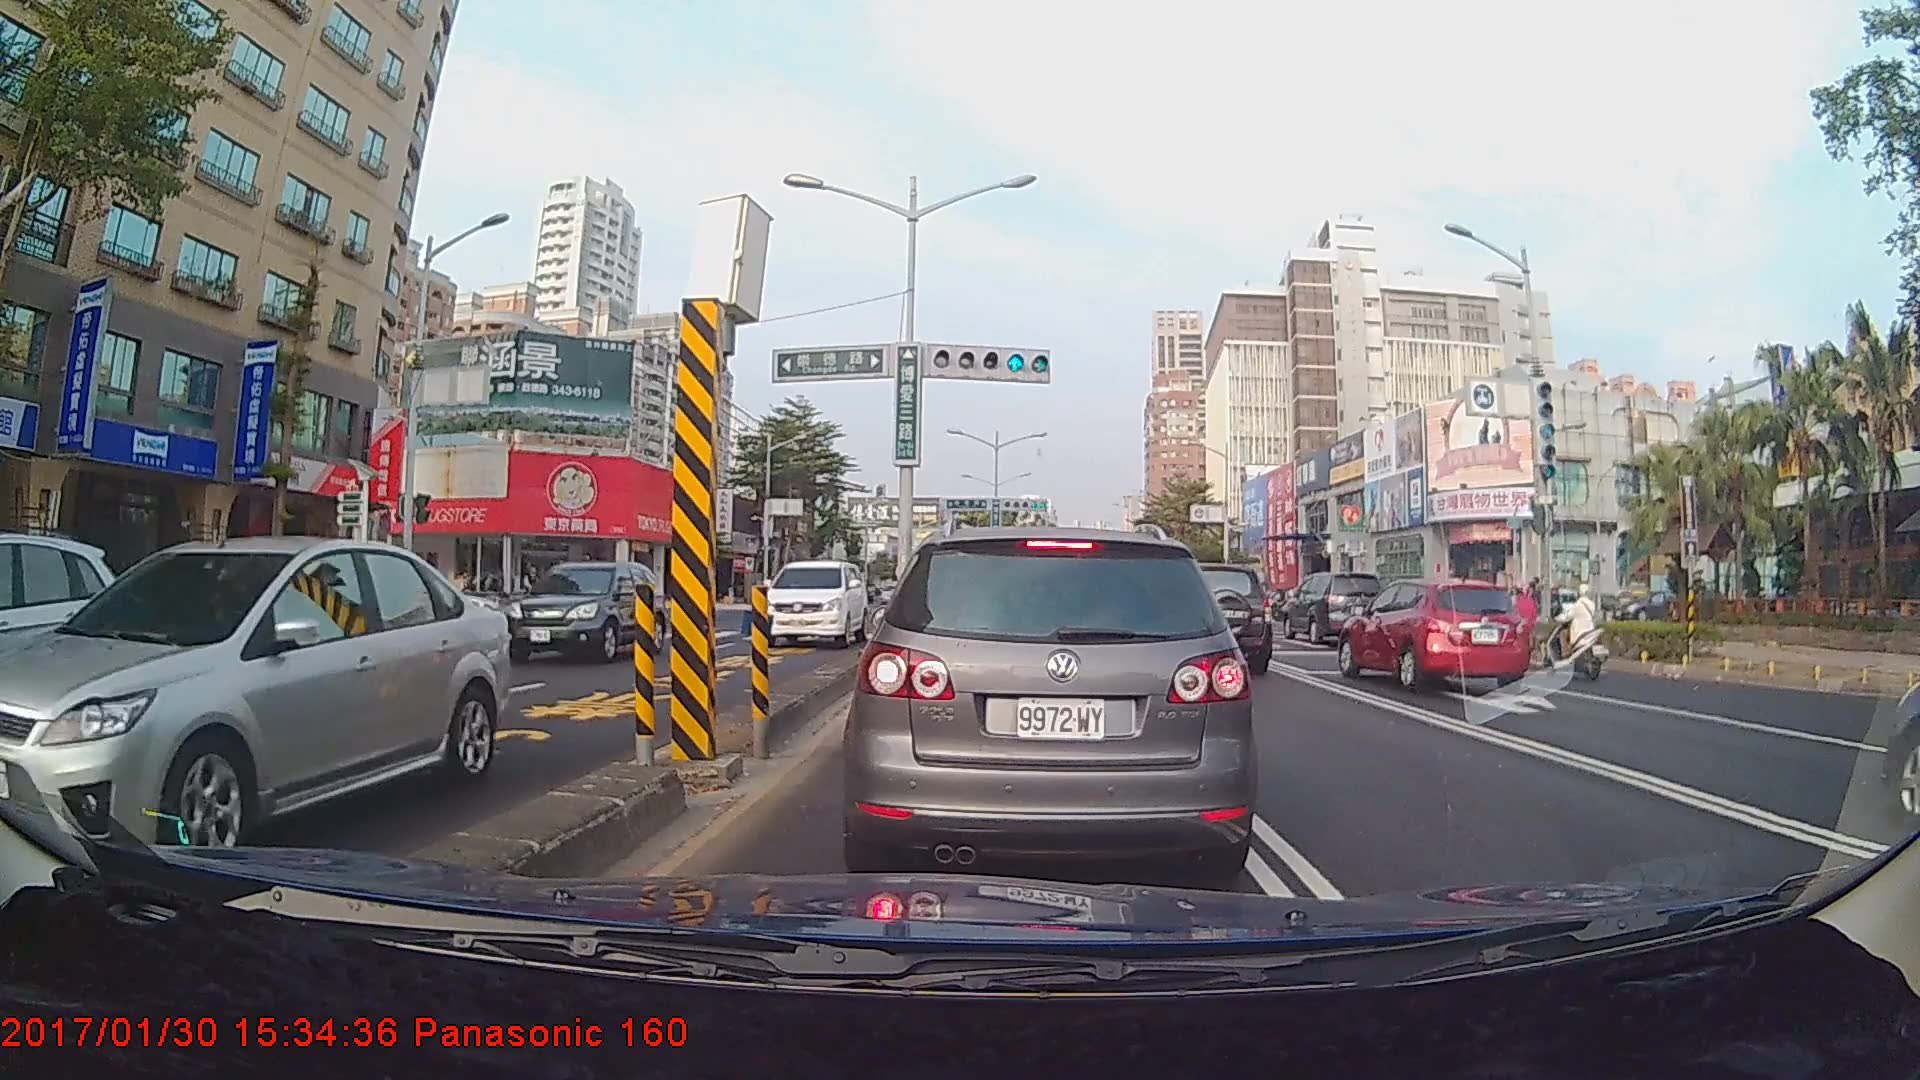rider: (1535, 586, 1605, 687)
vehicle: (1, 533, 510, 879), (855, 521, 1249, 878), (0, 526, 119, 778), (1337, 577, 1531, 694), (505, 560, 668, 662), (1149, 561, 1275, 678), (753, 556, 869, 645), (1279, 569, 1385, 644)
